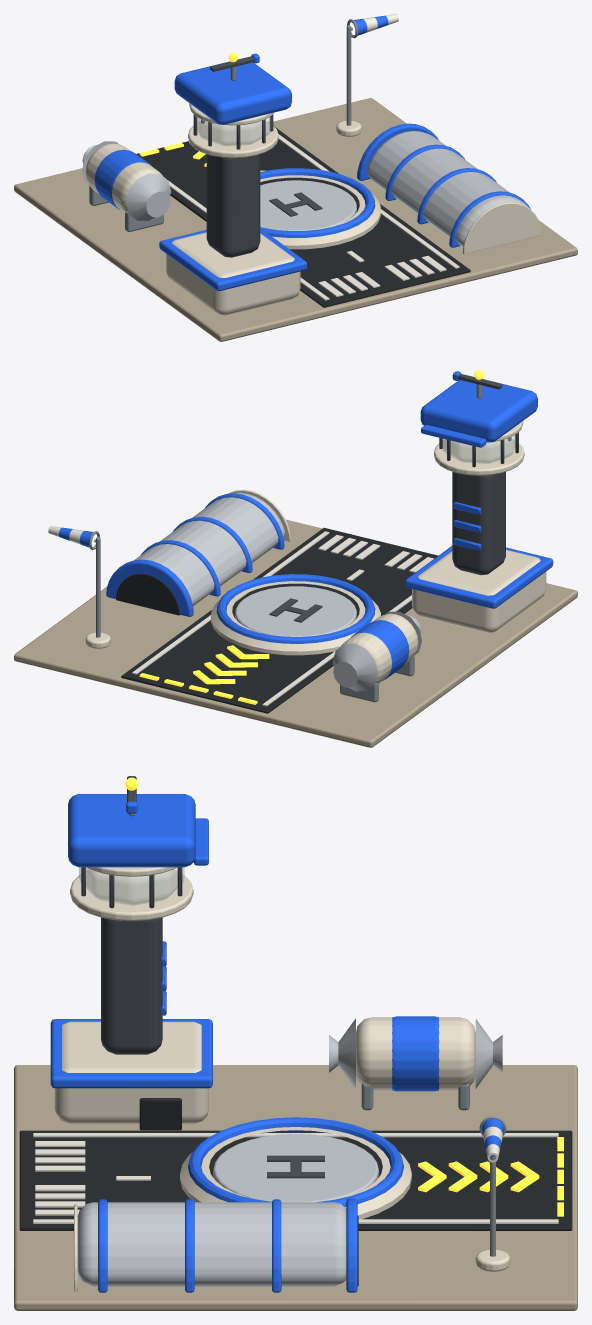
File: airfield.glb
3 views of the same model, one above another, from view 1: azimuth 30°, elevation 25°; view 2: azimuth 150°, elevation 25°; view 3: azimuth 270°, elevation 25° (orthographic). The views are drawn at different scales.
Visible parts, largest first — view 1: stage_0__M_SugarPad, stage_1__M_CreamPlastic, stage_0__M_Dark, stage_1__M_Foil, stage_1__M_Team, stage_2__M_SmokePlastic, stage_3__M_Team, lift__M_Foil, stage_3__M_CreamPlastic, stage_0__M_Bone, stage_1__M_SpringSteel, stage_3__M_FrostGlass (+2 smaller); view 2: stage_0__M_SugarPad, stage_0__M_Dark, stage_1__M_CreamPlastic, stage_1__M_Team, stage_1__M_Foil, stage_3__M_Team, stage_2__M_SmokePlastic, lift__M_Foil, stage_0__M_Bone, stage_3__M_CreamPlastic, stage_1__M_Dark, stage_1__M_SpringSteel (+4 smaller); view 3: stage_0__M_SugarPad, stage_0__M_Dark, stage_1__M_Foil, stage_1__M_CreamPlastic, stage_1__M_Team, stage_3__M_Team, lift__M_Foil, stage_2__M_SmokePlastic, stage_0__M_Bone, stage_3__M_CreamPlastic, stage_3__M_FrostGlass, stage_1__M_Dark (+3 smaller).
Part boxes in pixels (box(x1,y1,x2,y2)): stage_0__M_SugarPad: box(14, 98, 577, 341); stage_1__M_CreamPlastic: box(85, 143, 541, 315); stage_0__M_Dark: box(136, 122, 470, 307); stage_1__M_Foil: box(82, 131, 528, 246); stage_1__M_Team: box(94, 123, 530, 290); stage_2__M_SmokePlastic: box(206, 154, 260, 257); stage_3__M_Team: box(174, 62, 291, 124); lift__M_Foil: box(260, 180, 356, 230); stage_3__M_CreamPlastic: box(188, 103, 278, 157); stage_0__M_Bone: box(168, 134, 459, 300); stage_1__M_SpringSteel: box(89, 25, 351, 231); stage_3__M_FrostGlass: box(197, 117, 270, 145); stage_0__M_SugarPad: box(14, 519, 577, 747); stage_0__M_Dark: box(121, 527, 437, 713); stage_1__M_CreamPlastic: box(211, 489, 546, 683); stage_1__M_Team: box(106, 493, 553, 680); stage_1__M_Foil: box(134, 492, 421, 691); stage_3__M_Team: box(420, 380, 537, 447); stage_2__M_SmokePlastic: box(452, 472, 505, 575); lift__M_Foil: box(235, 586, 356, 636); stage_0__M_Bone: box(132, 531, 433, 706); stage_3__M_CreamPlastic: box(434, 421, 524, 475); stage_1__M_Dark: box(116, 573, 179, 615); stage_1__M_SpringSteel: box(96, 537, 414, 702); stage_0__M_SugarPad: box(14, 1065, 577, 1310); stage_0__M_Dark: box(19, 1130, 572, 1230); stage_1__M_Foil: box(77, 1018, 502, 1286); stage_1__M_CreamPlastic: box(54, 1017, 475, 1291); stage_1__M_Team: box(50, 1016, 439, 1292); stage_3__M_Team: box(68, 794, 208, 867); lift__M_Foil: box(213, 1134, 378, 1202); stage_2__M_SmokePlastic: box(101, 917, 162, 1054); stage_0__M_Bone: box(33, 1133, 558, 1223); stage_3__M_CreamPlastic: box(70, 867, 193, 920); stage_3__M_FrostGlass: box(79, 867, 184, 905); stage_1__M_Dark: box(139, 1098, 358, 1285).
Size of the model in its own units: 2.92 by 1.91 by 2.92.
